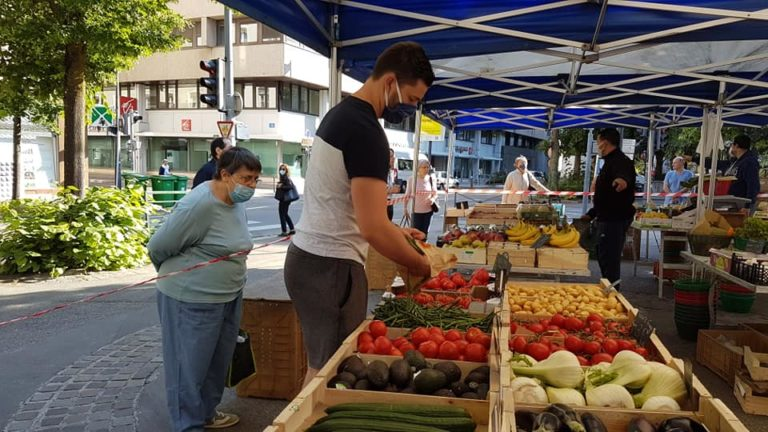with_mask: (387, 71, 429, 122), (229, 166, 261, 204), (592, 133, 613, 162), (517, 159, 526, 174), (279, 165, 288, 177)
without_mask: (417, 159, 430, 179)
